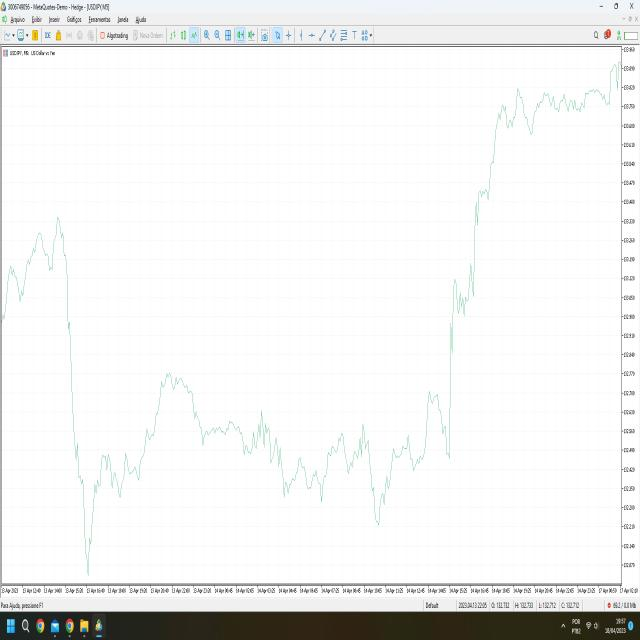bandeira_alta: (448, 231, 478, 464), (87, 440, 121, 596), (470, 181, 492, 296)
